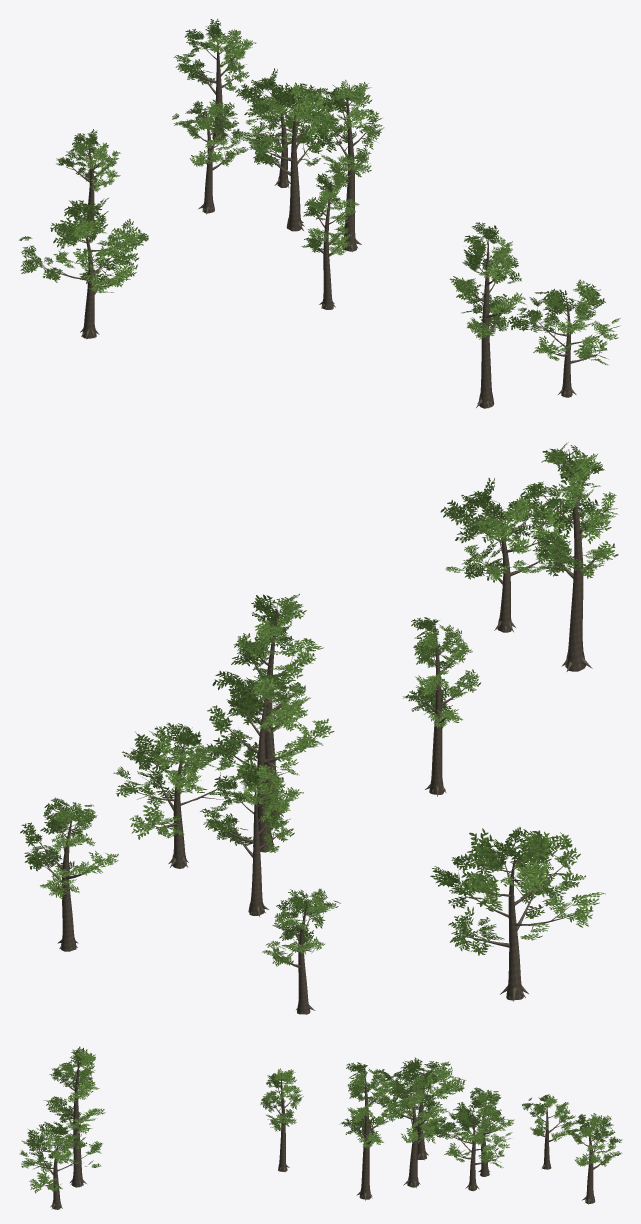
The model's file is Canopy_13_14.glb.
The picture shows the model from 3 angles, top to bottom: view 1: azimuth 30°, elevation 25°; view 2: azimuth 150°, elevation 25°; view 3: azimuth 270°, elevation 25°; orthographic projection. The views are drawn at different scales.
Parts seen in each view (by area): view 1: Canopy_13_14; view 2: Canopy_13_14; view 3: Canopy_13_14.
Boxes of the visible parts, bbox=[...] form: Canopy_13_14: bbox=[19, 18, 620, 408]; Canopy_13_14: bbox=[20, 442, 618, 1014]; Canopy_13_14: bbox=[19, 1046, 622, 1209].
Size of the model in its own units: 47.97 by 29.48 by 91.34.
Materials: 2 (2 with a texture image).
